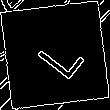L_NW: (26, 27, 84, 83)
